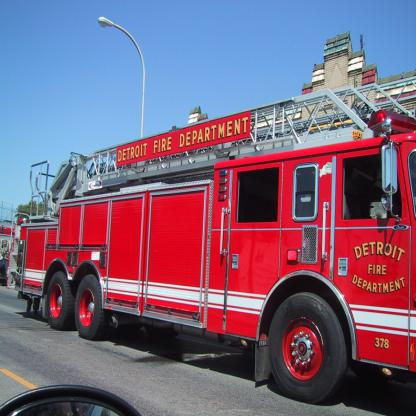Truck: (6, 75, 415, 405)
